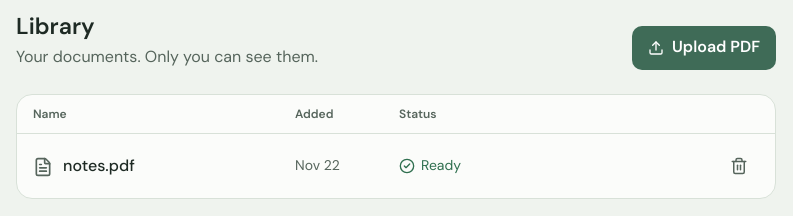
Test: critique 29/40: delete is quiet and says what happens › the row shows a trash icon, named for screen readers, and the question warns about cited answers
The width and height of the screenshot is (793, 216).
Expected: the 4th icon is shown, x1=730 y1=157 x2=748 y2=175
Click the button named "Delete notes.pdf".
click(739, 166)  # box x1=719 y1=146 x2=759 y2=186
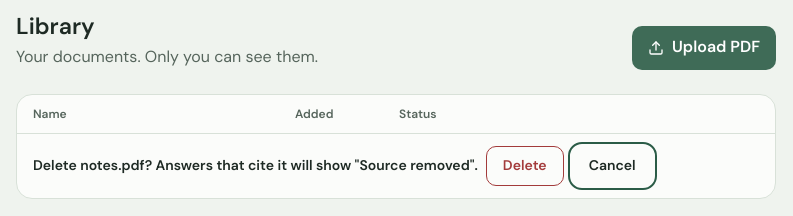
Expected: the text "Answers that cite it will show \"Source removed\"" is shown, x1=33 y1=156 x2=478 y2=174
